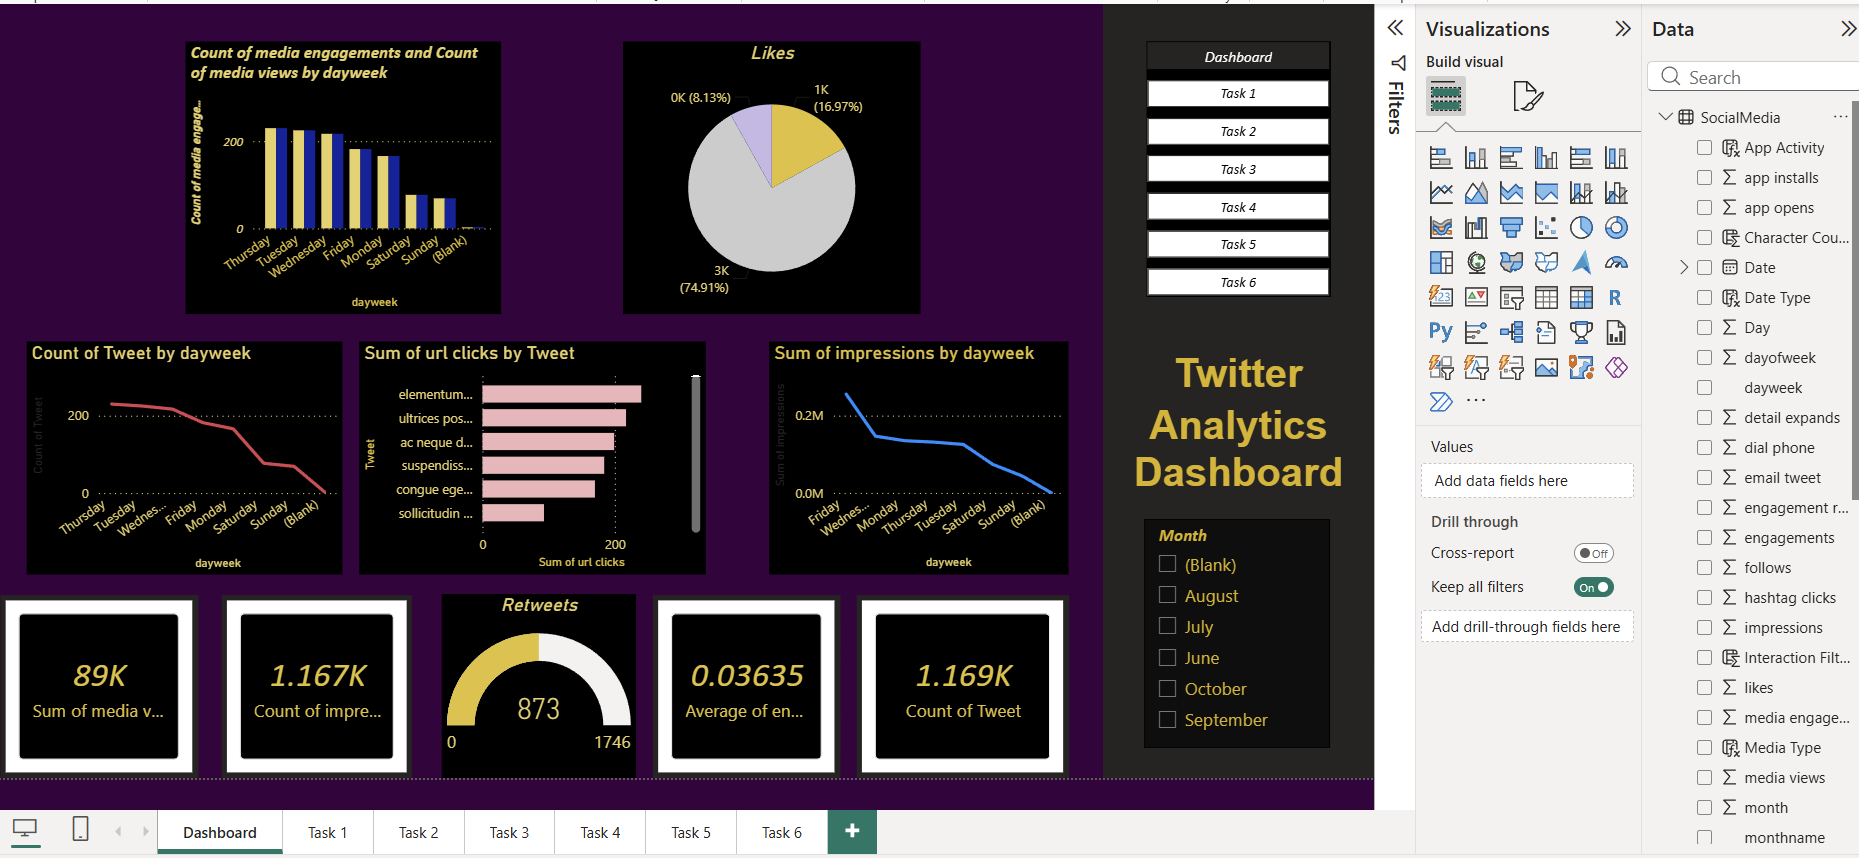

What the dashboard file says about the page in this screenshot:
{"tool":"powerbi","page":{"name":"Dashboard","canvas":[1280,720],"ordinal":0},"visuals":[{"type":"textbox","box":[1027.8,0,252.1,720.2],"z":0},{"type":"cardVisual","fields":{"Data":["Sum(SocialMedia.media views)"]},"box":[2.7,550.3,183.9,170.2],"z":1000},{"type":"cardVisual","fields":{"Data":["CountNonNull(SocialMedia.impressions)"]},"box":[208.6,550.3,177,170.2],"z":2000},{"type":"cardVisual","fields":{"Data":["Avg(SocialMedia.engagement rate)"]},"box":[609.3,550.3,174.3,170.2],"z":3000},{"type":"cardVisual","fields":{"Data":["CountNonNull(SocialMedia.Tweet)"]},"box":[798.6,550.3,197.6,170.2],"z":4000},{"type":"pieChart","title":" Likes","fields":{"Y":["Max(SocialMedia.user profile clicks)","Sum(SocialMedia.url clicks)","Sum(SocialMedia.hashtag clicks)"]},"box":[581.8,34.3,277.2,253.9],"z":5000},{"type":"gauge","title":"Retweets","fields":{"Y":["Sum(SocialMedia.retweets)"]},"box":[413,548.9,181.1,171.5],"z":6000},{"type":"lineChart","fields":{"Category":["SocialMedia.dayweek"],"Y":["CountNonNull(SocialMedia.Tweet)"]},"box":[27.3,314.5,293.5,217],"z":7000},{"type":"lineChart","fields":{"Category":["SocialMedia.dayweek"],"Y":["Sum(SocialMedia.impressions)"]},"box":[717.7,314.2,278.6,216.8],"z":8000},{"type":"clusteredBarChart","fields":{"Category":["SocialMedia.Tweet"],"Y":["Sum(SocialMedia.url clicks)"]},"box":[336.2,314.2,322.5,216.8],"z":9000},{"type":"clusteredColumnChart","fields":{"Category":["SocialMedia.dayweek"],"Y":["CountNonNull(SocialMedia.media engagements)","CountNonNull(SocialMedia.media views)"]},"box":[174.3,34.3,293.7,253.9],"z":10000},{"type":"slicer","fields":{"Values":["SocialMedia.monthname"]},"box":[1066.2,478.9,172.9,212.7],"z":11000},{"type":"pageNavigator","box":[1069,34.3,171.5,237.4],"z":12000}]}

Visuals, with their boxes on the page's 1280x720 design canvas (x1, y1, x2, y2). These are canvas units, not pixel positions in the 1859x858 screenshot, which may show the page scaled, cropped or inside an application window:
textbox: (x1=1028, y1=0, x2=1280, y2=720)
cardVisual - Sum(SocialMedia.media views): (x1=3, y1=550, x2=187, y2=720)
cardVisual - CountNonNull(SocialMedia.impressions): (x1=209, y1=550, x2=386, y2=720)
cardVisual - Avg(SocialMedia.engagement rate): (x1=609, y1=550, x2=784, y2=720)
cardVisual - CountNonNull(SocialMedia.Tweet): (x1=799, y1=550, x2=996, y2=720)
" Likes" pieChart: (x1=582, y1=34, x2=859, y2=288)
"Retweets" gauge: (x1=413, y1=549, x2=594, y2=720)
lineChart - SocialMedia.dayweek x CountNonNull(SocialMedia.Tweet): (x1=27, y1=314, x2=321, y2=532)
lineChart - SocialMedia.dayweek x Sum(SocialMedia.impressions): (x1=718, y1=314, x2=996, y2=531)
clusteredBarChart - SocialMedia.Tweet x Sum(SocialMedia.url clicks): (x1=336, y1=314, x2=659, y2=531)
clusteredColumnChart - SocialMedia.dayweek x CountNonNull(SocialMedia.media engagements): (x1=174, y1=34, x2=468, y2=288)
slicer - SocialMedia.monthname: (x1=1066, y1=479, x2=1239, y2=692)
pageNavigator: (x1=1069, y1=34, x2=1240, y2=272)
